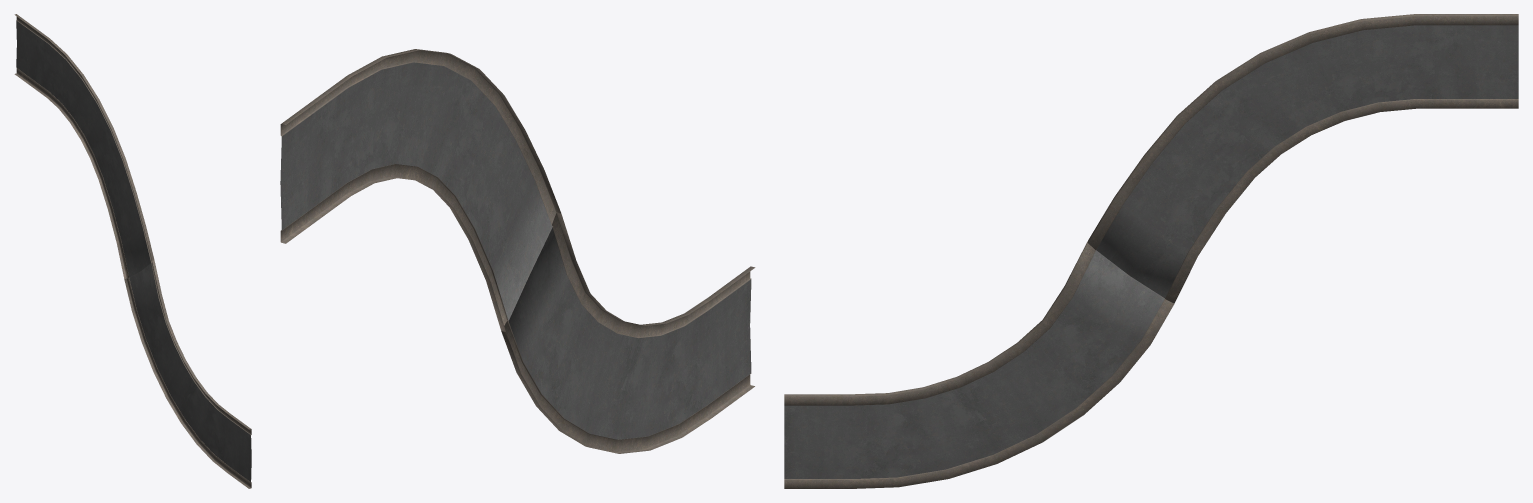
The model's file is cP_Pathway01_v02_sCurve.dae.
The picture shows the model from 3 angles, left to right: view 1: azimuth 30°, elevation 25°; view 2: azimuth 150°, elevation 25°; view 3: azimuth 270°, elevation 25°; orthographic projection. The views are drawn at different scales.
Visible parts, largest first — view 1: cP_Pathway01_v02_sCurve.001; view 2: cP_Pathway01_v02_sCurve.001; view 3: cP_Pathway01_v02_sCurve.001.
Boxes of the visible parts, box(x1,y1,x2,y2) form: cP_Pathway01_v02_sCurve.001: box(14, 14, 251, 488); cP_Pathway01_v02_sCurve.001: box(280, 49, 755, 453); cP_Pathway01_v02_sCurve.001: box(784, 14, 1518, 488).
Size of the model in its own units: 0.0939 by 14 by 9.95.
